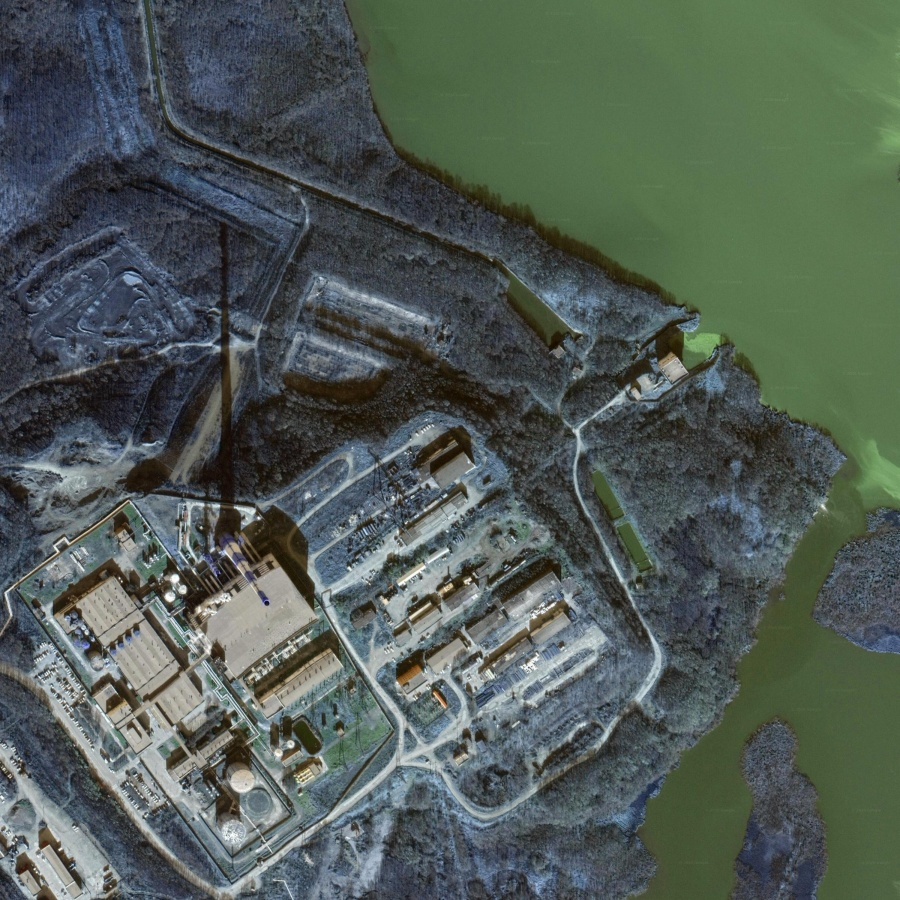PowerPlant: (51, 485, 366, 849)
